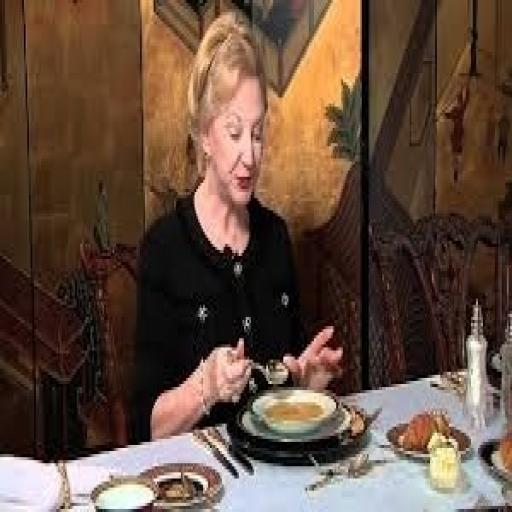eating: (133, 12, 345, 439)
